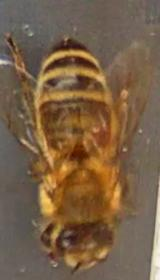varroa_mite: (81, 106, 121, 154)
